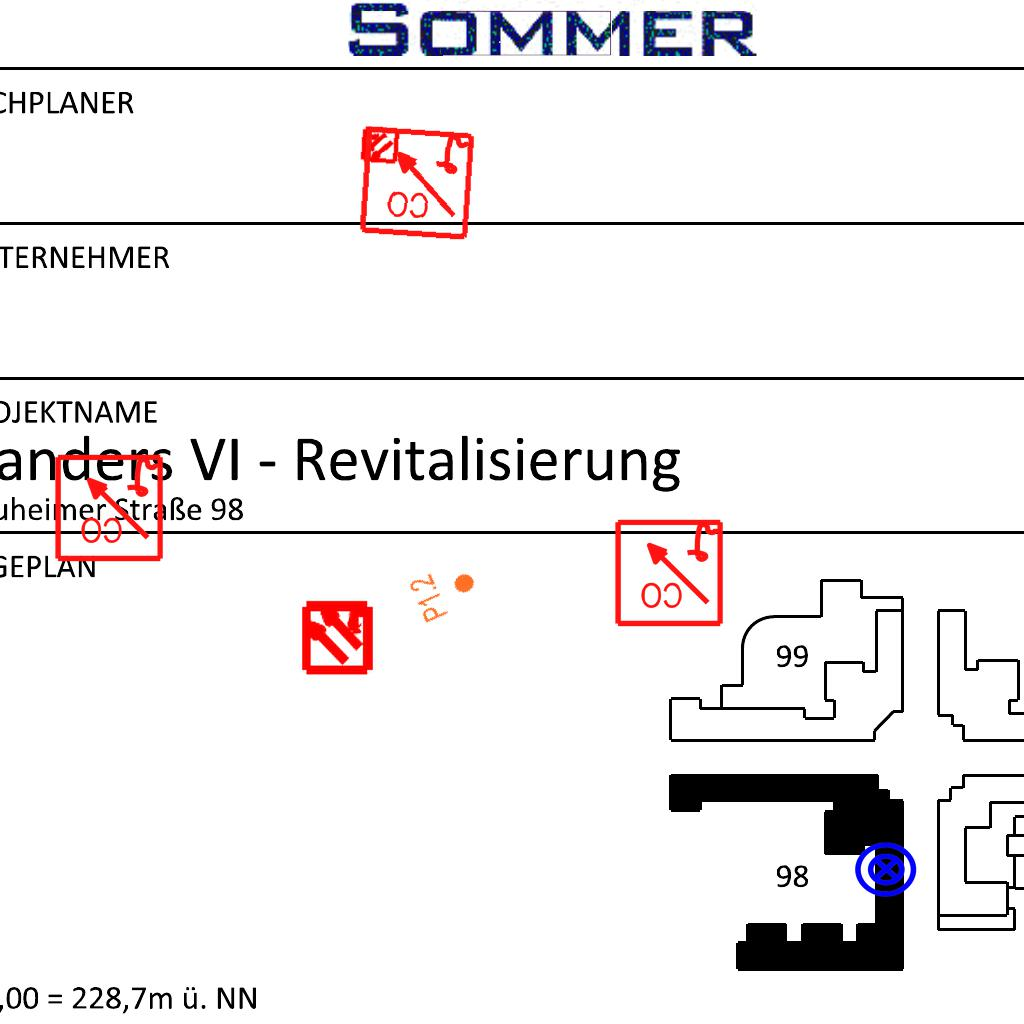Downlight_LED_Einbauleuchten_Flur: (406, 556, 484, 626)
OT_Multisensormelder_(Kombination_RMO_WMD): (281, 579, 394, 692), (349, 115, 409, 175)
ROA_Rauchmelder_optisch_mit_Signalgeber_(Sockelsirene): (356, 121, 477, 242), (52, 450, 165, 563), (612, 515, 725, 628)
Taster_beleuchtet: (853, 836, 919, 902)
